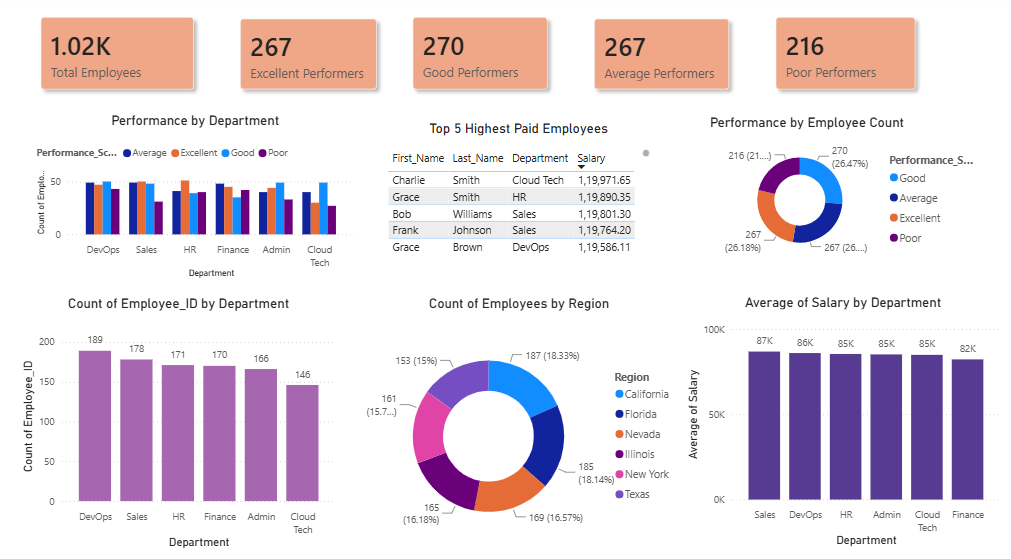

The dashboard page shown, as its layout file describes it:
{"tool":"powerbi","page":{"name":"Page 1","canvas":[1280,720],"ordinal":0},"visuals":[{"type":"clusteredColumnChart","fields":{"Category":["Query1.Department"],"Y":["CountNonNull(Query1.Employee_ID)"]},"box":[24.6,379.8,406,323],"z":1},{"type":"clusteredColumnChart","fields":{"Category":["Query1.Department"],"Y":["Avg(Query1.Salary)"]},"box":[861.7,378,406,323],"z":2},{"type":"donutChart","fields":{"Category":["Query1.Region"],"Y":["CountNonNull(Query1.Employee_ID)"]},"box":[453.5,379.8,406,323],"z":3},{"type":"cardVisual","fields":{"Data":["CountNonNull(Query1.Employee_ID)"]},"box":[24.6,0,251.3,149.3],"z":4},{"type":"cardVisual","fields":{"Data":["Employees.Excellent Performers"]},"box":[275.9,1.9,230.6,147.4],"z":5},{"type":"cardVisual","fields":{"Data":["Employees.Average Performers"]},"box":[721.9,1.9,228.7,147.4],"z":6},{"type":"cardVisual","fields":{"Data":["Employees.Poor Performers"]},"box":[950.6,0,234.3,149.3],"z":7},{"type":"tableEx","title":"Top 5 Highest Paid Employees","fields":{"Values":["Employees.First_Name","Employees.Last_Name","Employees.Department","Employees.Salary"]},"box":[485.7,158.7,340.2,172],"z":8},{"type":"clusteredColumnChart","title":"Performance by Department","fields":{"Category":["Employees.Department"],"Series":["Employees.Performance_Score"],"Y":["CountNonNull(Employees.Employee_ID)"]},"box":[43.5,149.3,410.1,213.5],"z":9},{"type":"cardVisual","fields":{"Data":["Employees.Good Performers"]},"box":[493.2,0,228.7,149.3],"z":10},{"type":"donutChart","title":"Performance by Employee Count","fields":{"Category":["Employees.Performance_Score"],"Y":["CountNonNull(Employees.Employee_ID)"]},"box":[892,151.2,347.7,185.2],"z":11}]}

Visuals, with their boxes in screenshot pixels (x1, y1, x2, y2), scaled from the page's 1280x720 canvas onto the 1011x559 screenshot:
clusteredColumnChart - Query1.Department x CountNonNull(Query1.Employee_ID): (19,295,340,546)
clusteredColumnChart - Query1.Department x Avg(Query1.Salary): (681,293,1001,544)
donutChart - Query1.Region x CountNonNull(Query1.Employee_ID): (358,295,679,546)
cardVisual - CountNonNull(Query1.Employee_ID): (19,0,218,116)
cardVisual - Employees.Excellent Performers: (218,1,400,116)
cardVisual - Employees.Average Performers: (570,1,751,116)
cardVisual - Employees.Poor Performers: (751,0,936,116)
"Top 5 Highest Paid Employees" tableEx: (384,123,652,257)
"Performance by Department" clusteredColumnChart: (34,116,358,282)
cardVisual - Employees.Good Performers: (390,0,570,116)
"Performance by Employee Count" donutChart: (705,117,979,261)
